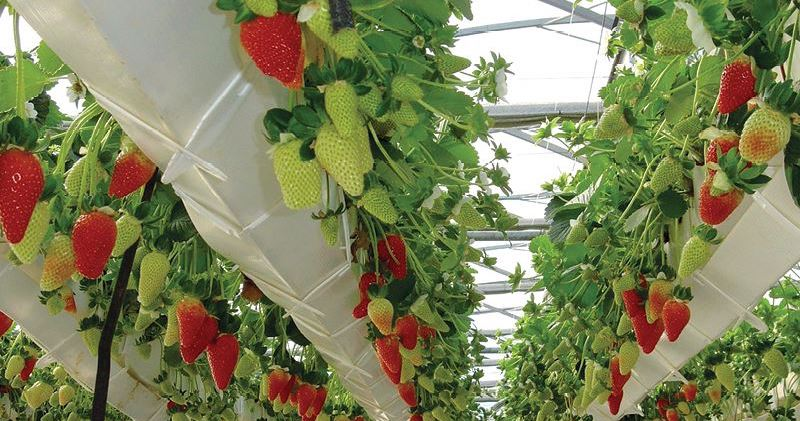ripe_strawberry: (240, 12, 303, 84), (1, 148, 46, 245), (72, 211, 119, 279), (695, 176, 747, 227), (109, 147, 158, 199), (717, 59, 760, 116), (704, 133, 755, 177), (177, 313, 221, 364), (205, 333, 240, 390), (177, 298, 207, 349), (377, 233, 409, 280), (662, 298, 692, 344), (619, 273, 648, 317), (374, 333, 403, 374), (643, 307, 666, 355), (609, 357, 632, 400), (395, 314, 419, 350), (358, 272, 385, 300), (631, 309, 648, 349), (309, 385, 329, 419), (297, 382, 316, 416), (380, 354, 402, 383), (268, 369, 287, 402), (398, 380, 419, 408), (278, 375, 297, 404), (606, 389, 624, 416), (21, 356, 39, 380), (681, 381, 699, 403), (418, 322, 437, 342), (352, 299, 371, 319), (167, 400, 188, 413), (657, 398, 670, 417), (664, 407, 679, 421), (409, 414, 423, 421), (302, 415, 318, 421)
unripe_strawberry: (271, 132, 324, 212), (304, 1, 365, 64), (315, 124, 360, 199), (739, 108, 792, 165), (7, 202, 52, 264), (322, 79, 363, 141), (39, 233, 77, 295), (135, 253, 172, 307), (655, 10, 698, 54), (65, 154, 106, 198), (678, 230, 713, 280), (350, 81, 390, 124), (361, 186, 403, 226), (592, 104, 634, 142), (110, 214, 144, 258), (650, 153, 685, 195), (648, 279, 676, 321), (388, 74, 427, 103), (367, 297, 395, 337), (453, 202, 488, 231), (318, 206, 342, 248), (360, 112, 375, 175), (435, 53, 473, 77), (763, 347, 790, 380), (25, 381, 55, 409), (390, 101, 421, 128), (80, 323, 103, 358), (409, 294, 436, 322), (401, 339, 426, 369), (163, 304, 180, 348), (619, 339, 639, 376), (614, 2, 646, 25), (244, 1, 284, 19), (591, 327, 616, 355), (714, 362, 737, 392), (672, 116, 703, 138), (233, 353, 259, 379), (423, 311, 453, 333), (135, 307, 160, 332), (109, 336, 129, 367), (612, 271, 642, 291), (584, 227, 610, 249), (6, 353, 25, 381), (425, 194, 447, 218), (651, 42, 679, 60), (494, 215, 520, 234), (566, 223, 588, 245), (432, 364, 456, 384), (707, 378, 724, 406), (457, 245, 482, 264), (397, 358, 418, 380), (418, 371, 437, 394), (612, 275, 625, 308), (46, 295, 67, 315), (616, 312, 632, 337), (59, 384, 77, 406), (552, 339, 573, 357), (583, 359, 594, 393), (558, 305, 576, 325), (580, 387, 596, 409), (589, 379, 608, 397), (156, 379, 175, 397), (135, 342, 154, 360), (578, 267, 598, 283), (540, 400, 558, 417), (520, 362, 539, 378), (431, 406, 451, 421), (171, 389, 187, 405), (547, 359, 565, 373), (453, 393, 467, 411), (469, 291, 487, 305), (257, 380, 268, 402), (432, 344, 448, 359), (262, 373, 272, 397), (521, 301, 539, 314), (439, 390, 452, 407), (222, 407, 237, 421), (171, 411, 190, 421), (550, 258, 565, 270), (696, 401, 708, 416), (475, 332, 490, 344), (53, 367, 68, 379), (678, 402, 690, 416), (557, 384, 572, 395), (197, 403, 210, 415), (421, 411, 435, 421), (473, 342, 486, 352), (684, 412, 698, 421), (598, 391, 606, 404)
